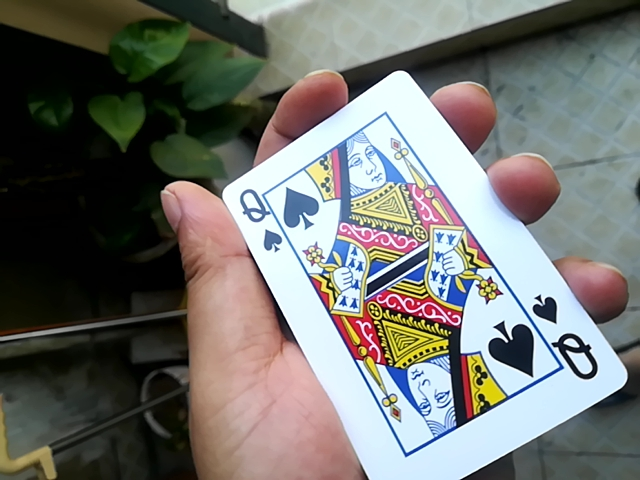ht q: (203, 67, 630, 480)
